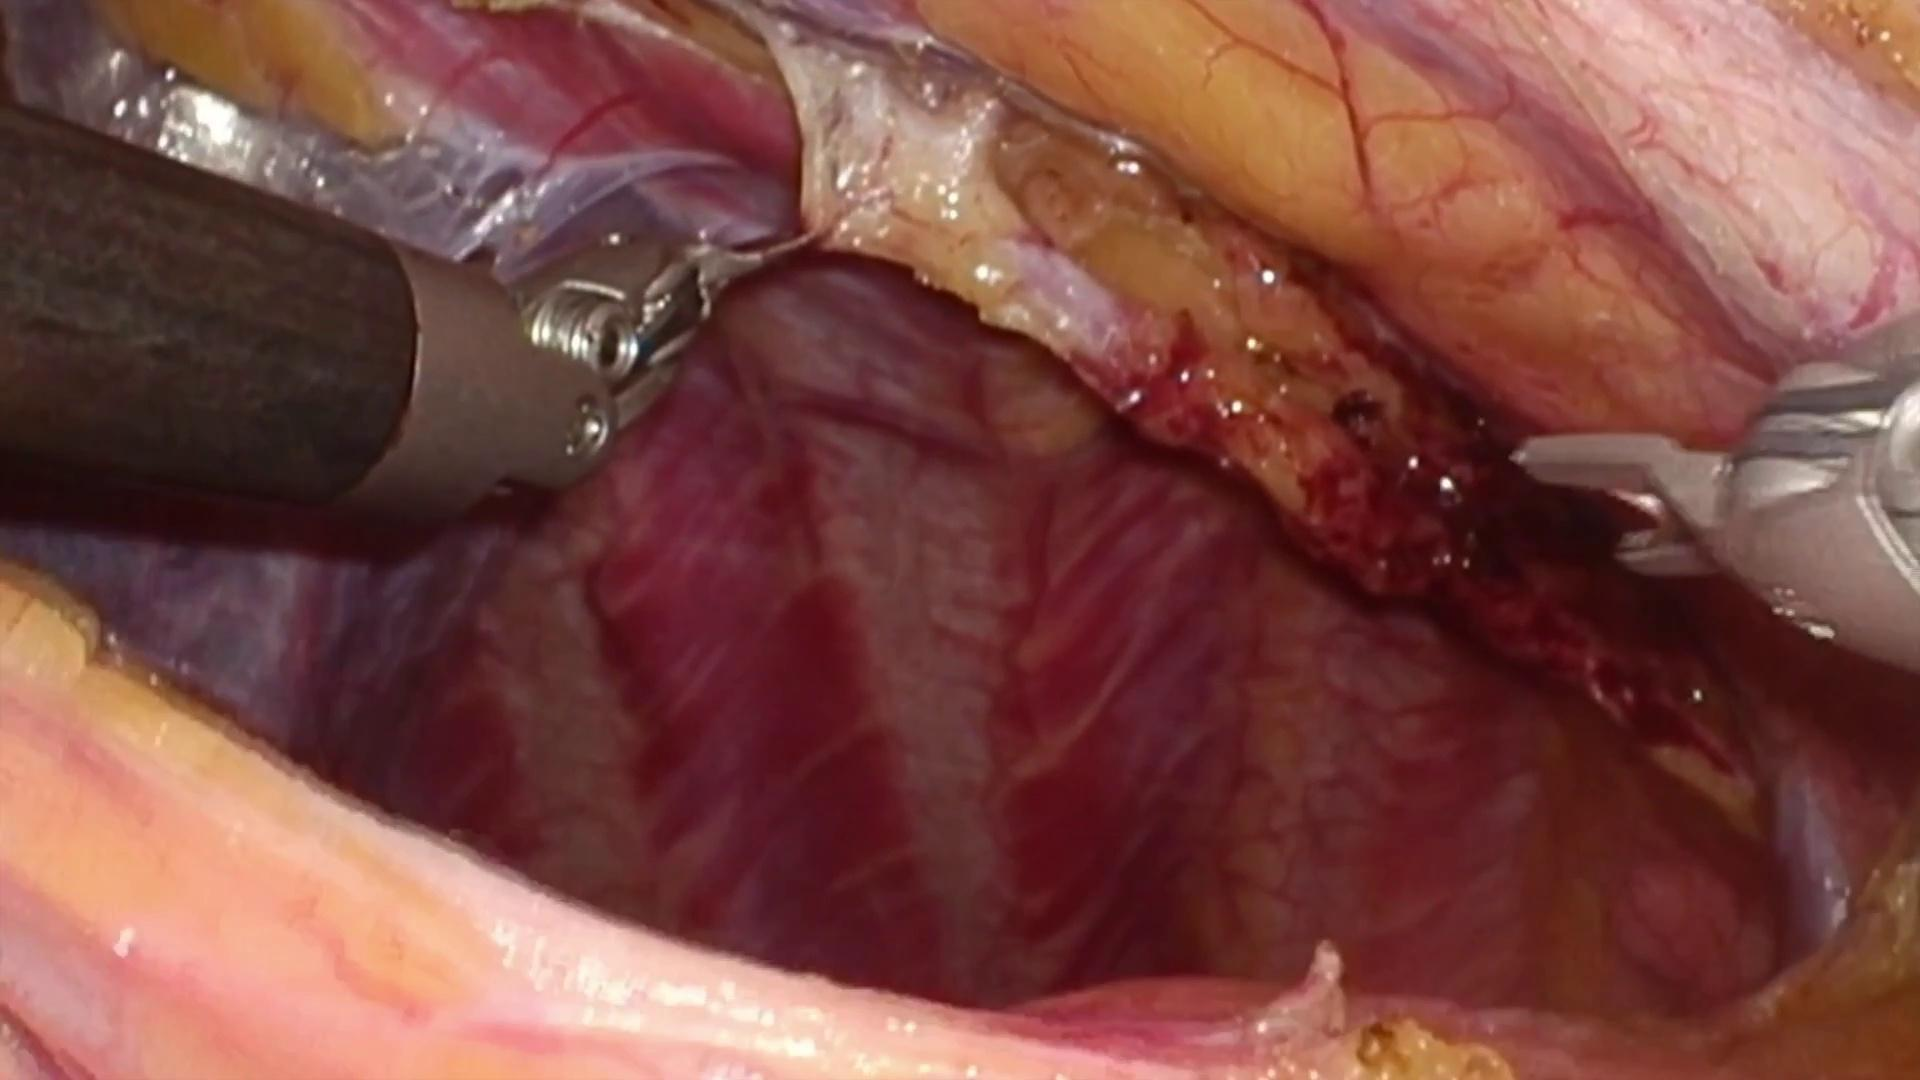Debakey: (698, 211, 824, 303)
clipper: (1501, 425, 1920, 663)
